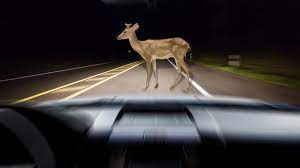deer: (117, 21, 193, 94)
